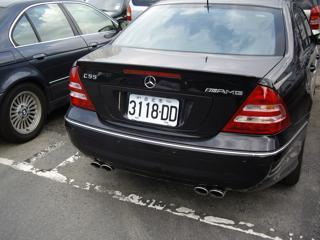plate: (125, 91, 181, 128)
